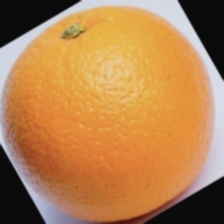orange: (0, 13, 197, 198)
